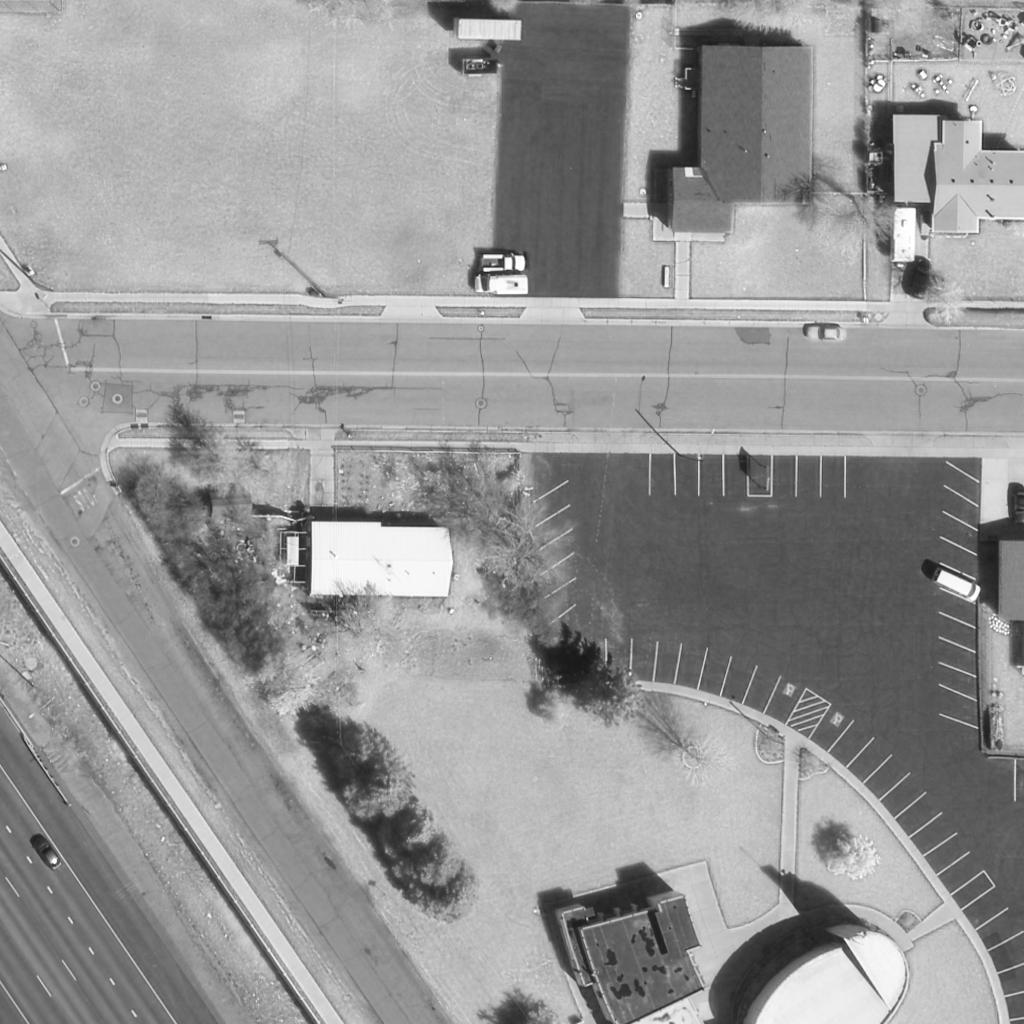vehicle: (929, 567, 983, 601), (890, 208, 916, 268), (473, 274, 529, 296), (908, 257, 934, 301), (32, 838, 64, 870), (477, 253, 527, 271), (806, 327, 844, 341), (1012, 488, 1024, 524)
